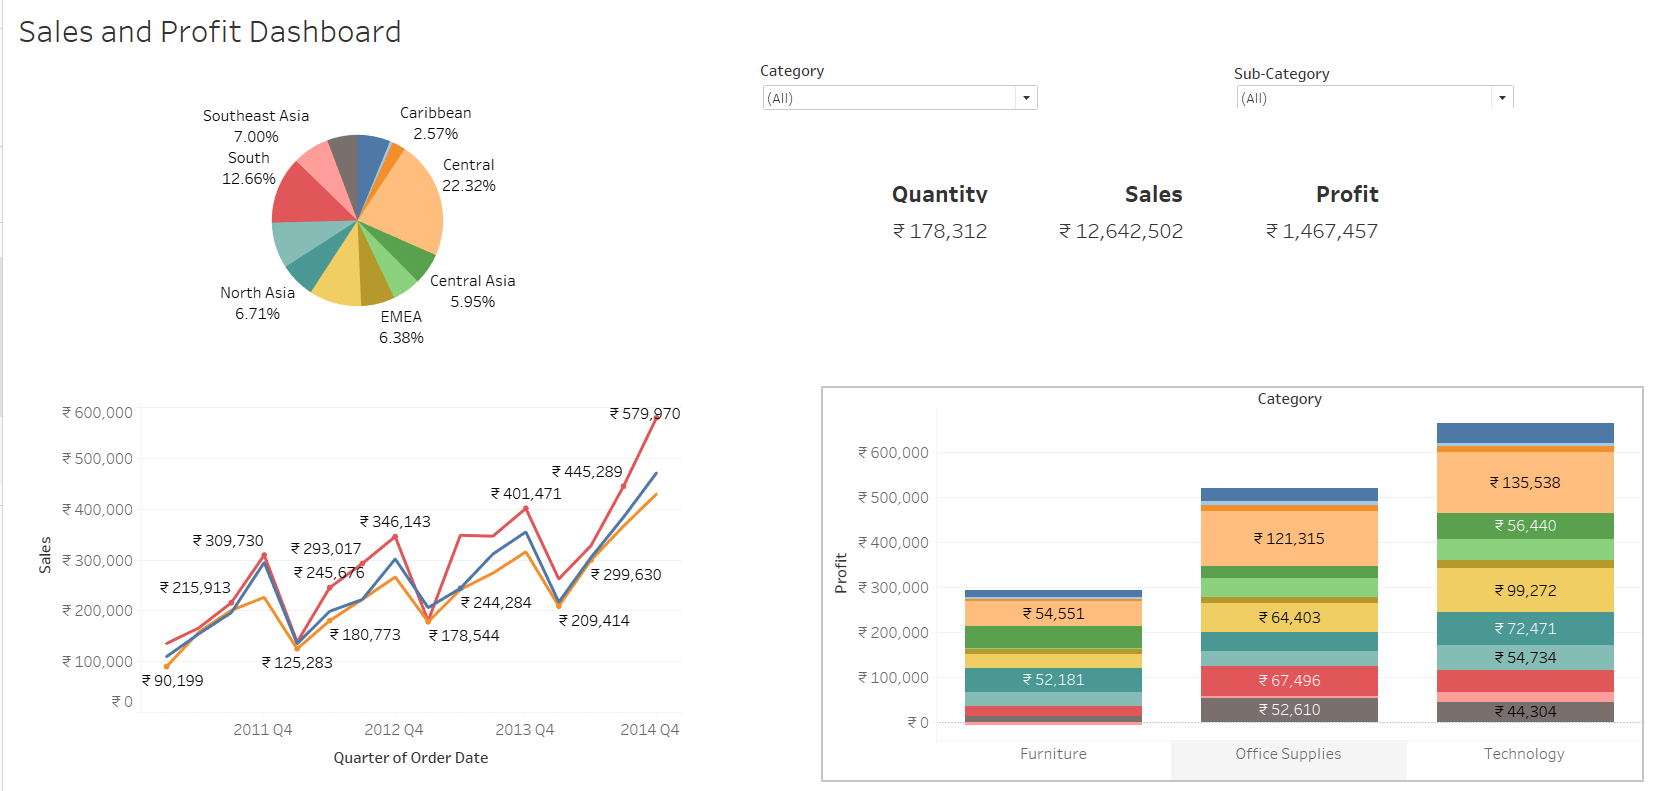

What the dashboard file says about the page in this screenshot:
{"tool":"tableau","page":{"name":"Sales and Profit Dashboard","canvas":[1000,1000],"units":"permille","ordinal":0},"visuals":[{"type":"title","box":[4.8,10,990.3,64.9]},{"type":"worksheet","title":"Sales By Region","mark":"Pie","box":[15.7,66.2,396.3,428.2]},{"type":"filter","title":"Sales Over Time","param":"[federated.1gclyv509ld3jw16cuz7s0w4sbks].[none:Category:nk]","box":[456.6,79.9,169.5,72.4]},{"type":"filter","title":"Sales By Region","param":"[federated.1gclyv509ld3jw16cuz7s0w4sbks].[none:Sub-Category:nk]","box":[743.1,83.7,170.7,56.2]},{"type":"worksheet","title":"Aggregation","mark":"Automatic","box":[478.3,233.5,354,92.4]},{"type":"worksheet","title":"Profit By Category","mark":"Automatic","rows":["Profit"],"cols":["Category"],"box":[494.6,489.4,494.6,489.4]},{"type":"worksheet","title":"Sales Over Time","mark":"Automatic","rows":["Sales"],"cols":["Order Date"],"box":[14.5,505.6,395.3,466.9]}]}

Visuals, with their boxes on the dashboard's canvas, which has no fixed pixel size, in thousandths of its width and height (x1, y1, x2, y2). These are canvas units, not pixel positions in the 1660x791 screenshot, which may show the page scaled, cropped or inside an application window:
title: bbox=(5, 10, 995, 75)
"Sales By Region" worksheet (Pie marks): bbox=(16, 66, 412, 494)
"Sales Over Time" filter: bbox=(457, 80, 626, 152)
"Sales By Region" filter: bbox=(743, 84, 914, 140)
"Aggregation" worksheet: bbox=(478, 234, 832, 326)
"Profit By Category" worksheet: bbox=(495, 489, 989, 979)
"Sales Over Time" worksheet: bbox=(14, 506, 410, 972)
